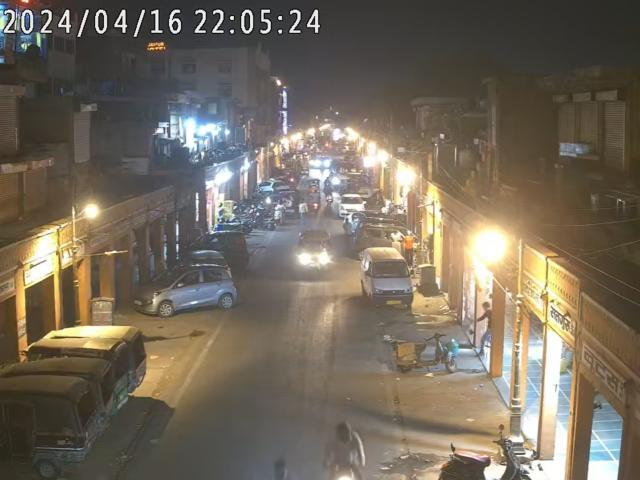auto: (5, 322, 163, 480), (294, 226, 339, 284)
bus: (358, 246, 414, 314)
car: (144, 252, 240, 317)
scooty: (430, 432, 540, 480), (383, 329, 464, 374)
